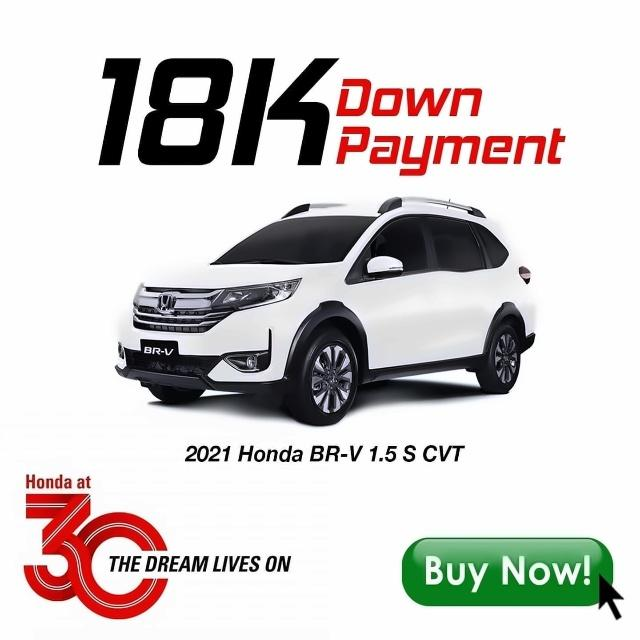Car hood: (139, 260, 348, 293)
Fender - -F-L-: (294, 257, 373, 375)
Fender - -R-L-: (494, 264, 533, 323)
Front bumper: (107, 306, 310, 398)
Headlight - -L-: (209, 274, 305, 314)
Headlight - -R-: (129, 279, 153, 310)
Passenger-s door - -F-L-: (372, 212, 436, 375)
Passenger-s door - -R-L-: (433, 212, 495, 367)
Rear bumper: (514, 307, 544, 355)
Rear light - -L-: (515, 262, 540, 286)
Side bumper - -L-: (356, 350, 496, 388)
Side mirror - -L-: (361, 253, 409, 286)
